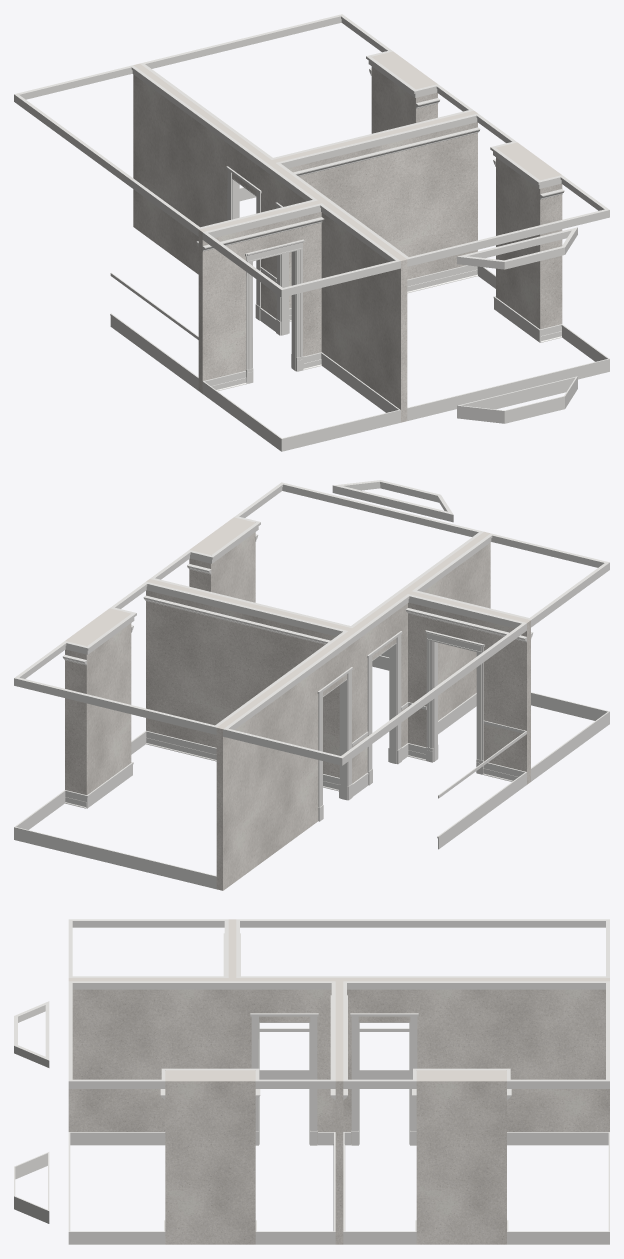
File: walls_1_l.glb
The picture shows the model from 3 angles, top to bottom: view 1: azimuth 30°, elevation 25°; view 2: azimuth 150°, elevation 25°; view 3: azimuth 270°, elevation 25°; orthographic projection.
Visible parts, largest first — view 1: walls_1_l_plaster, walls_1_l_trim, molduras; view 2: walls_1_l_plaster, walls_1_l_trim, molduras; view 3: walls_1_l_plaster, walls_1_l_trim, molduras.
Boxes of the visible parts, x1,y1,x2,y2 form: walls_1_l_plaster: (133, 51, 562, 422); walls_1_l_trim: (14, 14, 609, 451); molduras: (196, 68, 564, 394); walls_1_l_plaster: (65, 517, 530, 890); walls_1_l_trim: (14, 480, 609, 889); molduras: (62, 534, 533, 808); walls_1_l_plaster: (68, 919, 609, 1244); walls_1_l_trim: (14, 919, 609, 1244); molduras: (160, 933, 511, 1244).
Bounding box in the file's own units: 5.95 × 2.8 × 9.25.
2 materials, 1 textured.
